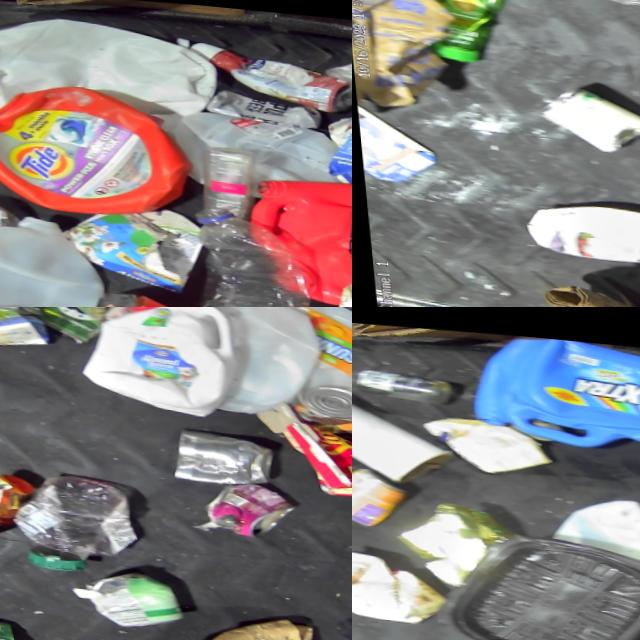can: (523, 76, 640, 150), (165, 416, 273, 482), (193, 465, 297, 528), (352, 457, 413, 527), (288, 372, 352, 419)
milk_jug: (0, 1, 219, 127), (69, 307, 241, 411), (201, 307, 327, 409), (511, 189, 640, 270), (0, 207, 98, 307), (187, 134, 255, 208)
non_white_jug: (465, 325, 640, 460), (0, 79, 177, 212), (247, 169, 352, 307)
plastic_bottle: (178, 198, 293, 307)
